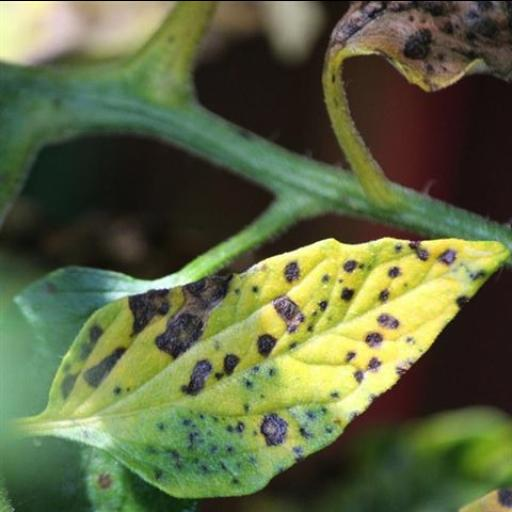disease_tomato: (48, 228, 510, 504)
